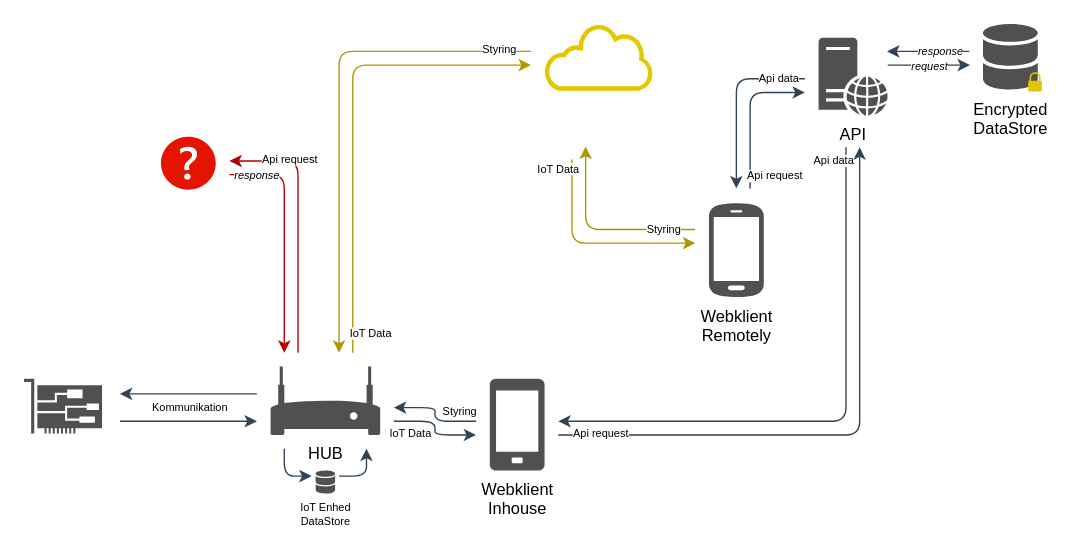
The diagram is 1070 pixels wide and 558 high, and some of its shapes have lost their labels. Here are the shapes that lost their labels. From the top down, the centre of each, then its label:
At (598,56): "CloudService IOT Handler".
At (187,162): "Extern IoT Enhed".
At (62,405): "IoT Enhed".
